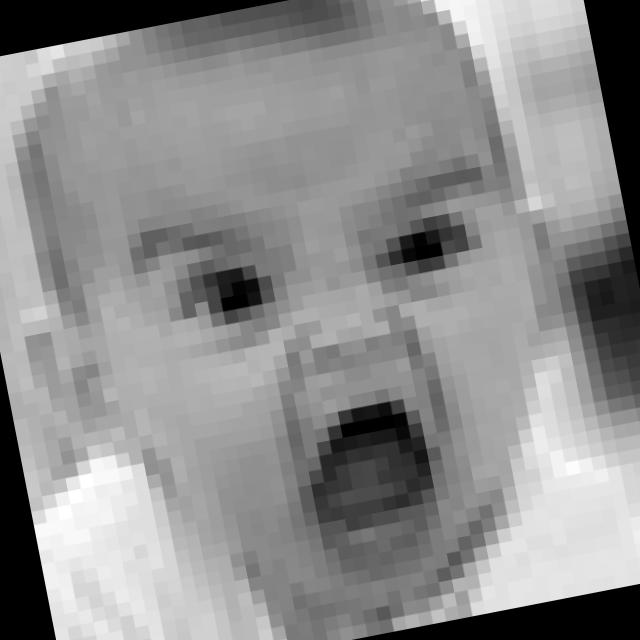angry: (119, 157, 558, 602)
